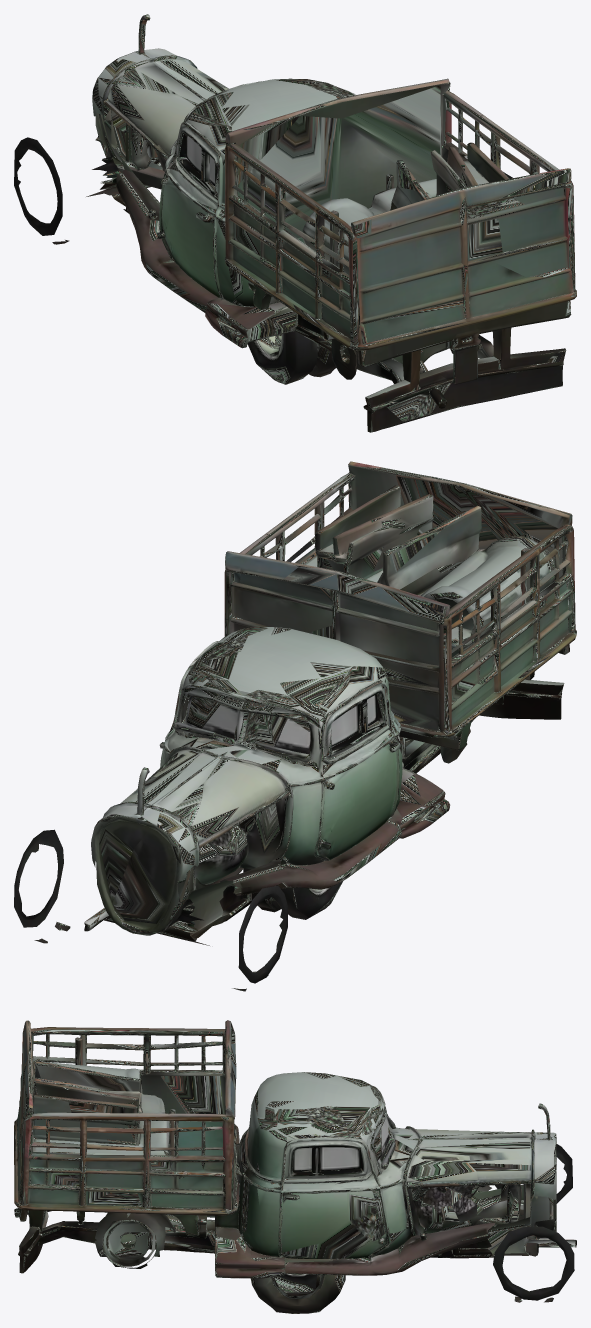
File: runner.glb
3 views of the same model, one above another, from view 1: azimuth 30°, elevation 25°; view 2: azimuth 150°, elevation 25°; view 3: azimuth 270°, elevation 25° (orthographic). The views are drawn at different scales.
Parts seen in each view (by area): view 1: body, wheel; view 2: body, wheel; view 3: body, wheel.
Part boxes in pixels (bbox=[...]): body: bbox=[14, 14, 576, 432]; wheel: bbox=[247, 331, 336, 384]; body: bbox=[14, 461, 576, 991]; wheel: bbox=[243, 868, 342, 919]; body: bbox=[14, 1020, 576, 1302]; wheel: bbox=[250, 1273, 345, 1313].
Bounding box in the file's own units: 1.86 × 2.35 × 4.86.
Materials: 1 (1 with a texture image).
